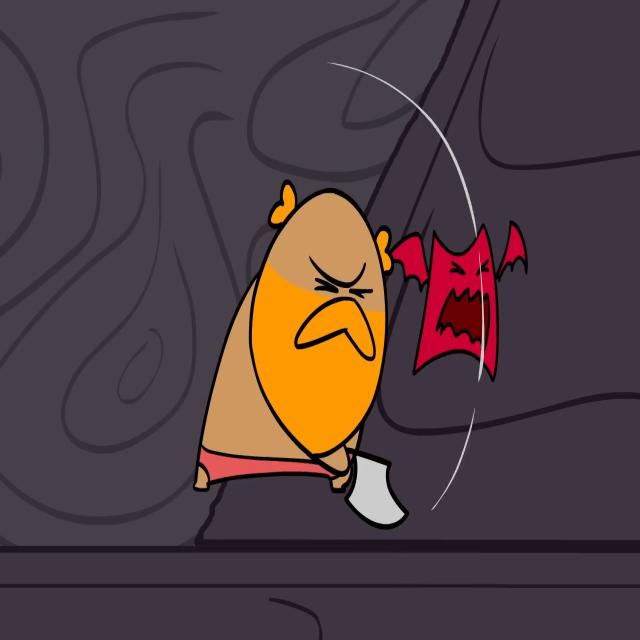Haagen-Daz: (193, 176, 394, 496)
